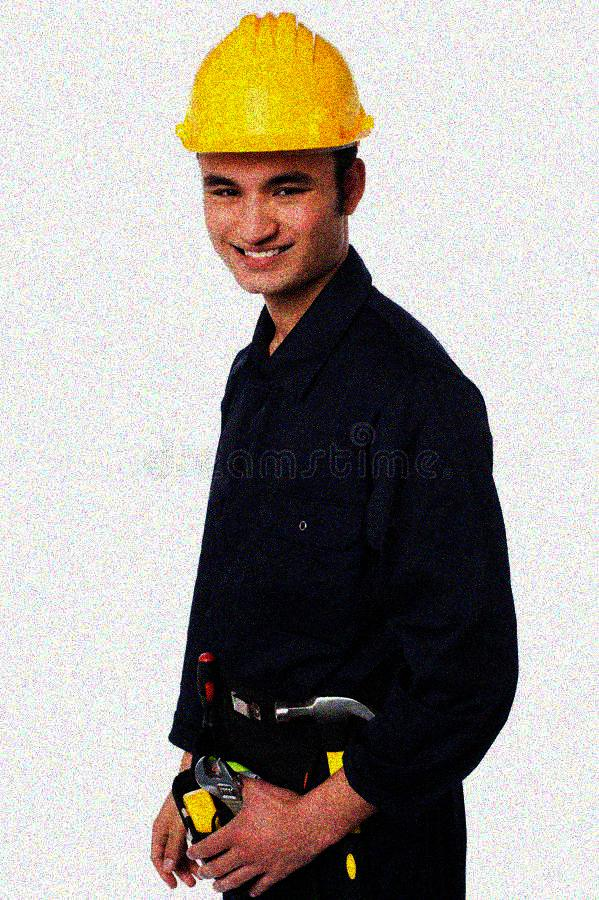helmet: (175, 7, 379, 297)
